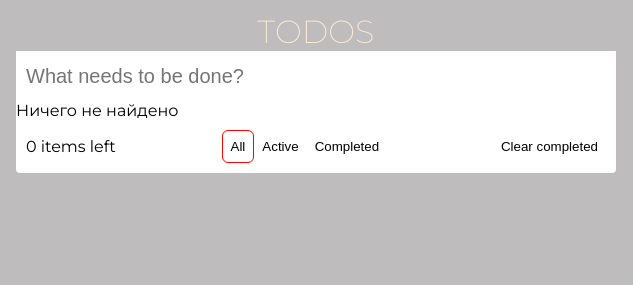
Test: Todo App › should filter completed tasks correctly
Step 1. Type "Task 1" into the field with placeholder "What needs to be done?" → (316, 76), box top-left (16, 51), bottom-right (616, 101)
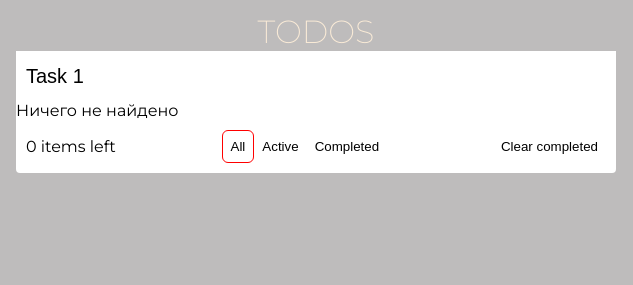
Step 2. Press Enter in the field with placeholder "What needs to be done?", box top-left (16, 51), bottom-right (616, 101)
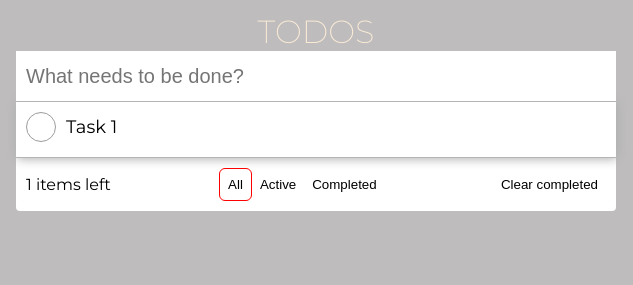
Step 3. Type "Task 2" into the field with placeholder "What needs to be done?" → (316, 76), box top-left (16, 51), bottom-right (616, 101)
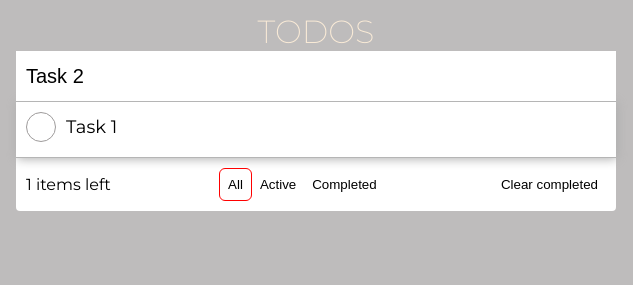
Step 4. Press Enter in the field with placeholder "What needs to be done?", box top-left (16, 51), bottom-right (616, 101)
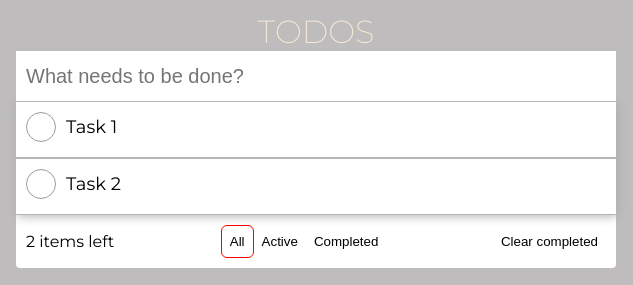
Note: Завершаем вторую задачу
Step 5. Click the checkbox labelled "Task 2" → (73, 184), box top-left (26, 169), bottom-right (121, 199)
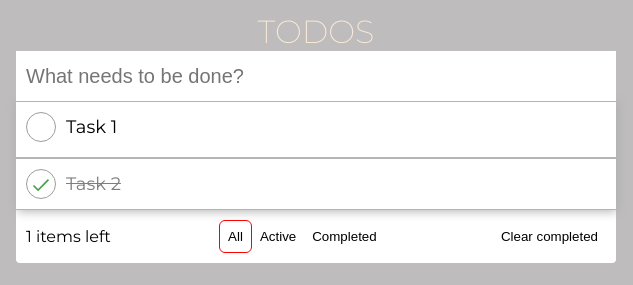
Note: Фильтруем выполненные задачи
Step 6. Click the button "Completed" → (344, 236), box top-left (304, 221), bottom-right (385, 252)
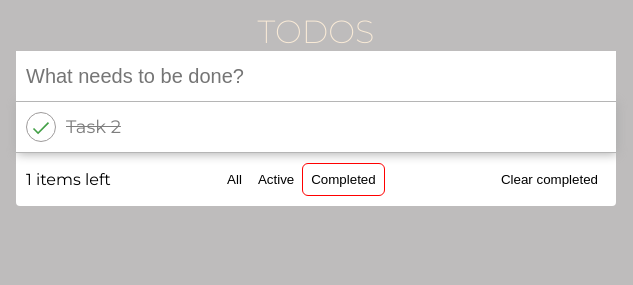
expect the text "Task 2" is shown: met, box top-left (66, 116), bottom-right (121, 138)
expect the text "Task 1" is gone: met
